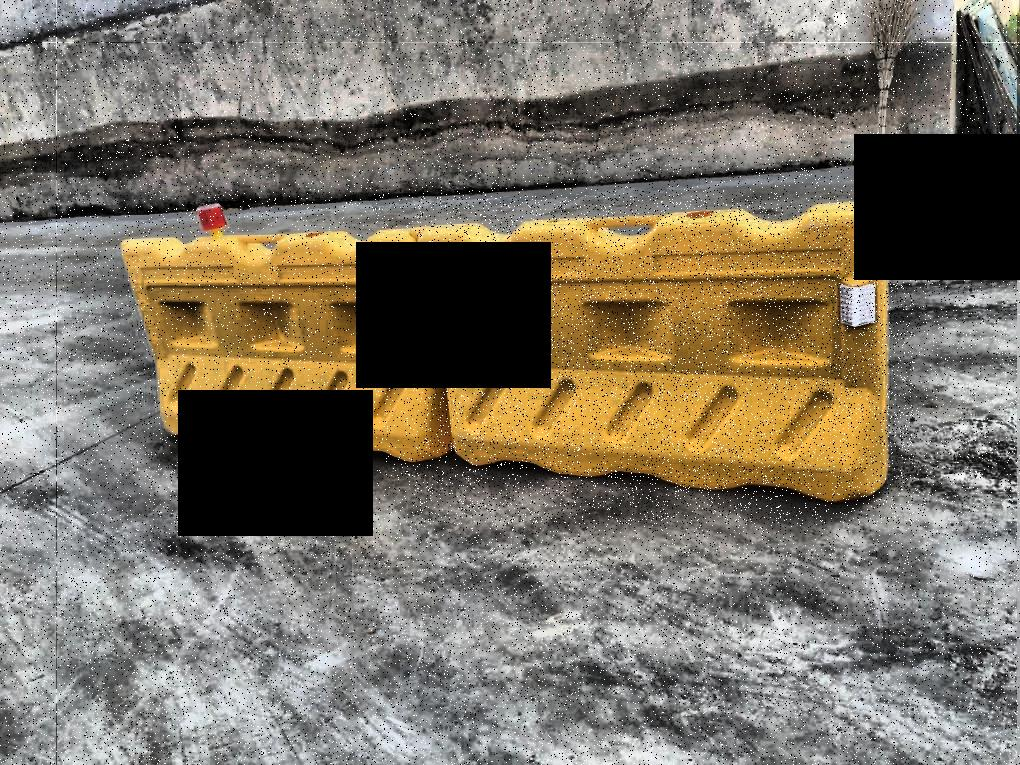bench: (417, 196, 915, 525)
